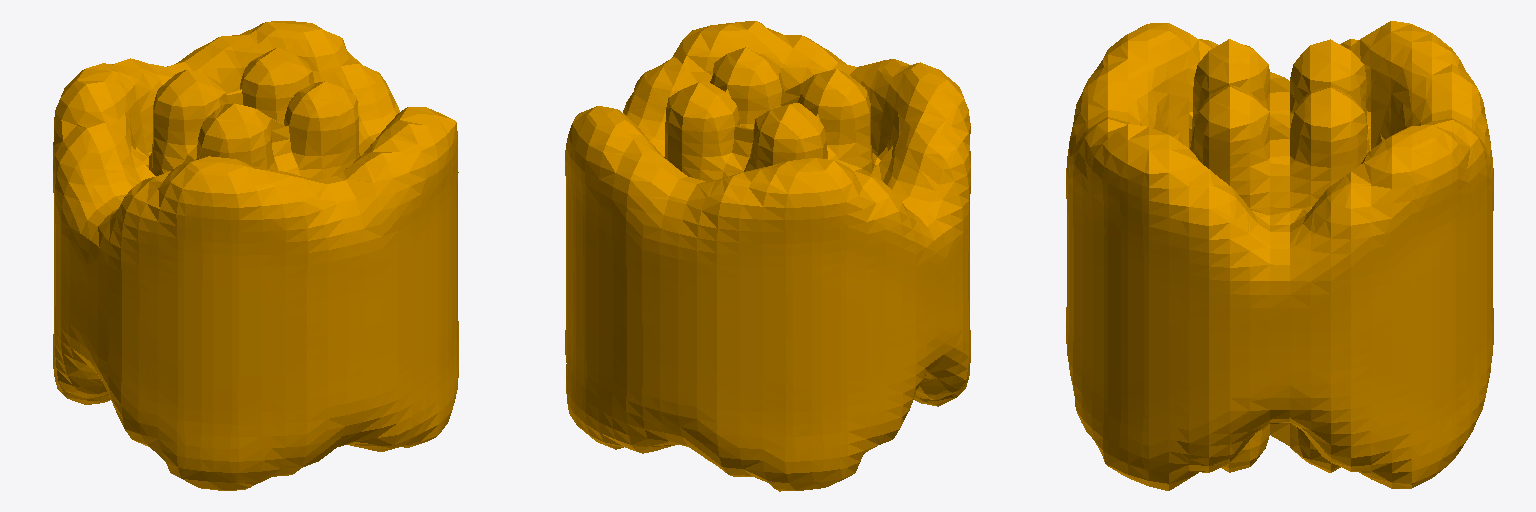
robot.urdf — object:
<?xml version="1.0"?>
<robot name="object">
  <link name="object">
    <visual>
      <origin xyz="0 0 0"/>
      <geometry>
        <mesh filename="meshes/subset_100_scaled/egad_K18_0_s.obj" scale=".03 .03 .03"/>
      </geometry>
    </visual>
    <collision>
  <origin xyz="0 0 0"/>
  <geometry>
    <mesh filename="meshes/subset_100_scaled/egad_K18_0_s_0decompose.obj" scale=".03 .03 .03"/>
<!--          <mesh filename="meshes/custom/obj0_ball.obj" scale=".05 .05 .05"/>-->
  </geometry>
</collision><collision>
  <origin xyz="0 0 0"/>
  <geometry>
    <mesh filename="meshes/subset_100_scaled/egad_K18_0_s_1decompose.obj" scale=".03 .03 .03"/>
<!--          <mesh filename="meshes/custom/obj0_ball.obj" scale=".05 .05 .05"/>-->
  </geometry>
</collision>

<!--    <collision>-->
<!--      <origin xyz="0 0 0"/>-->
<!--      <geometry>-->
<!--        <mesh filename="meshes/subset_100_scaled/egad_K18_0_s.obj" scale=".03 .03 .03"/>-->
<!--&lt;!&ndash;          <mesh filename="meshes/custom/obj0_ball.obj" scale=".05 .05 .05"/>&ndash;&gt;-->
<!--      </geometry>-->
<!--    </collision>-->
    <inertial>
      <density value="1000.0"/>
    </inertial>
  </link>
</robot>

--- Facts derived from the render (not from the file) ---
Views: 3 orthographic renders of the robot side by side, from view 1: azimuth 30°, elevation 25°; view 2: azimuth 150°, elevation 25°; view 3: azimuth 270°, elevation 25°.
Robot: object — 1 links, 0 joints (none); root link object; default pose: all joints at 0.
Visible links, largest first — view 1: object; view 2: object; view 3: object.
Link boxes in pixels (x1,y1,x2,y2): object: (53, 21, 458, 490); object: (565, 21, 970, 491); object: (1066, 21, 1493, 490).
Size in the robot's own frame: 0.06 by 0.06 by 0.06 metres.
1 mesh visuals loaded from 1 distinct referenced files (1 OBJ).
